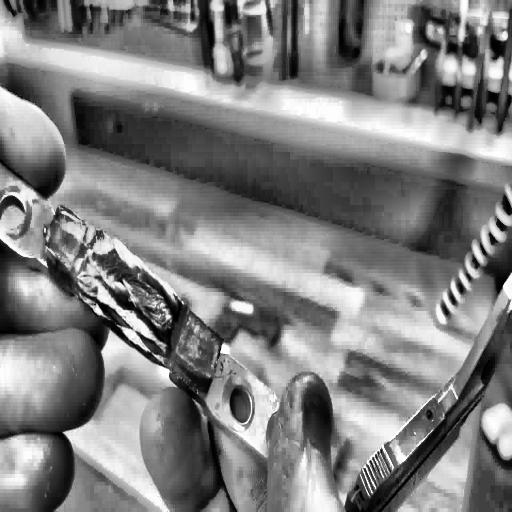busbar: (0, 166, 296, 473)
